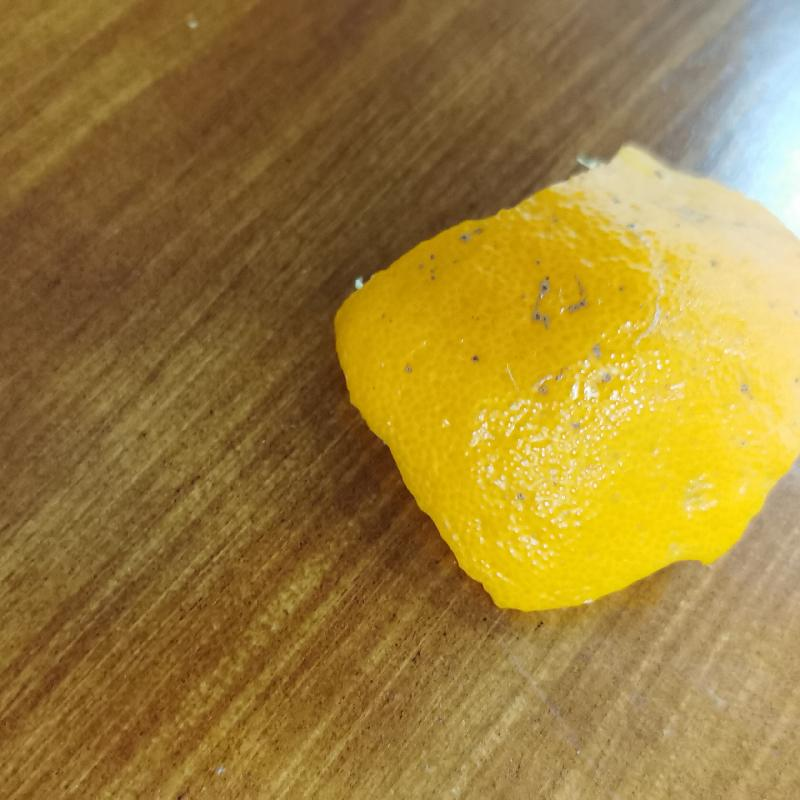orange: (328, 138, 800, 609)
